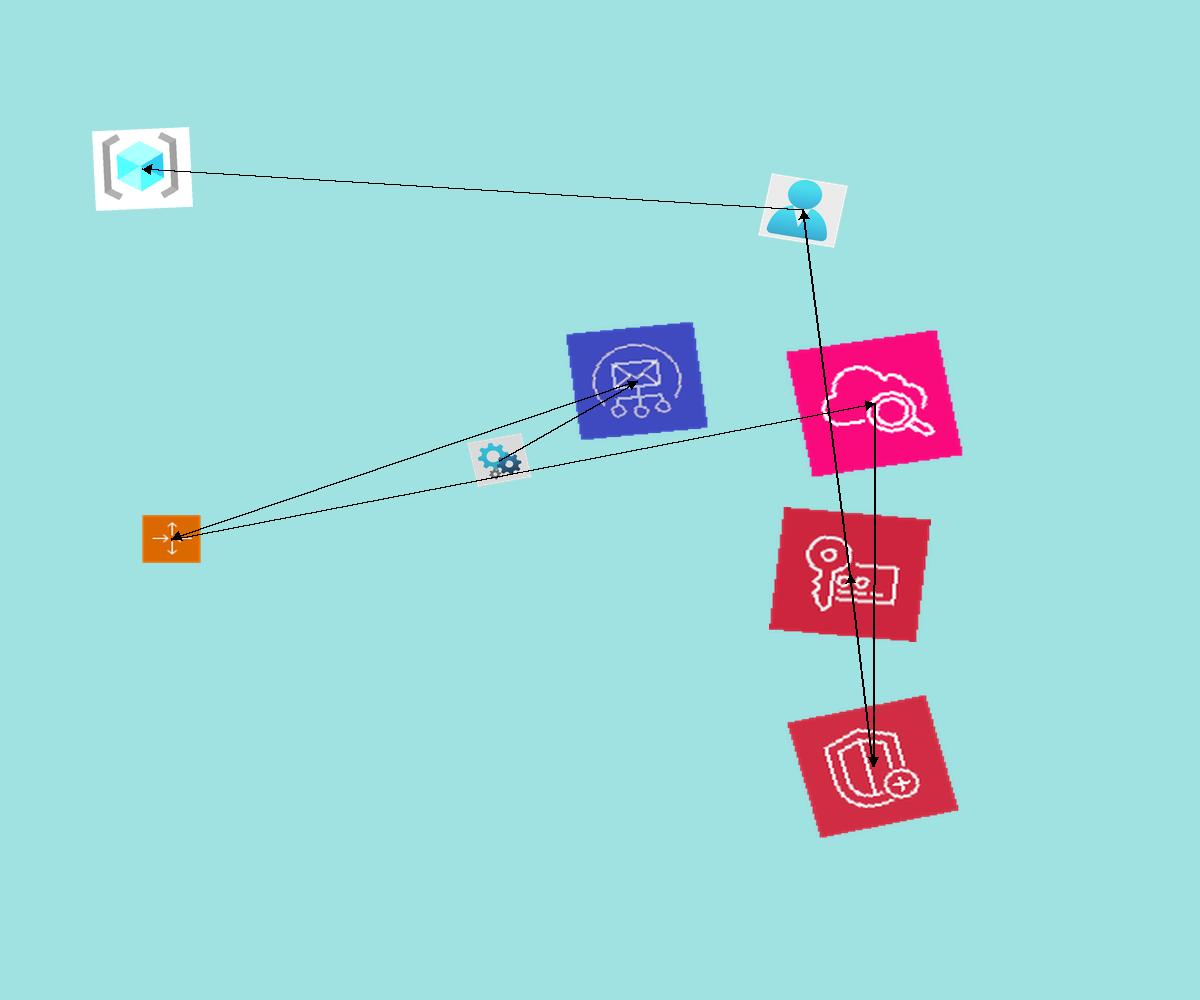AWS-CloudWatch: (785, 329, 964, 478)
AWS-Key-Management-Service: (769, 507, 931, 642)
AWS-Scaling-group: (141, 514, 202, 564)
AWS-Shield: (786, 694, 960, 839)
AWS-Simple-Email-Service: (565, 321, 709, 441)
Azure_api: (467, 433, 532, 487)
Azure_resource_group: (92, 127, 193, 211)
Azure_users: (758, 173, 848, 248)
